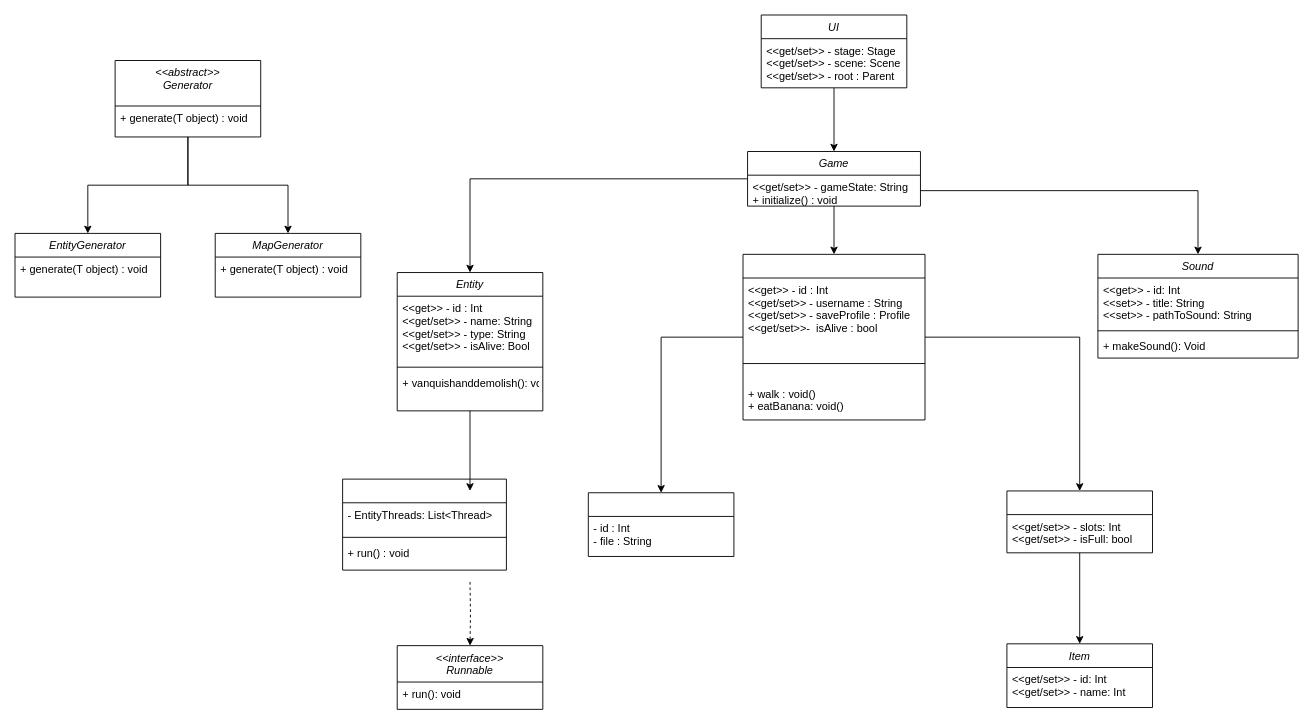
Some shapes in this 1313 by 724 pixel diagram are drawn without their labels. Here are the shapes that lost their labels. From the top down, the box of each, then its label:
(742, 253, 925, 420): Player
(342, 478, 506, 570): EntityRunnable
(587, 492, 734, 556): Profile
(1006, 490, 1153, 553): Inventory
